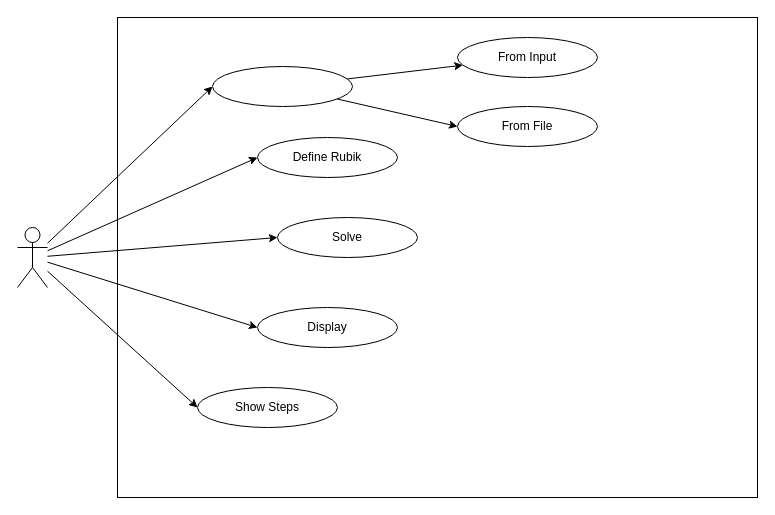
The diagram is 775 pixels wide and 515 high, and some of its shapes have lost their labels. Here are the shapes that lost their labels. From the top down, the box of each, then its label:
(212, 66, 352, 106): Shuffle Rubik
(16, 226, 48, 288): User
